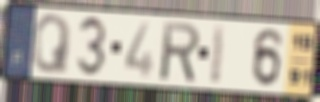3: (73, 14, 109, 80)
4: (123, 20, 156, 80)
6: (251, 27, 285, 89)
I: (208, 22, 228, 86)
Q: (31, 12, 74, 75)
R: (160, 20, 203, 85)
